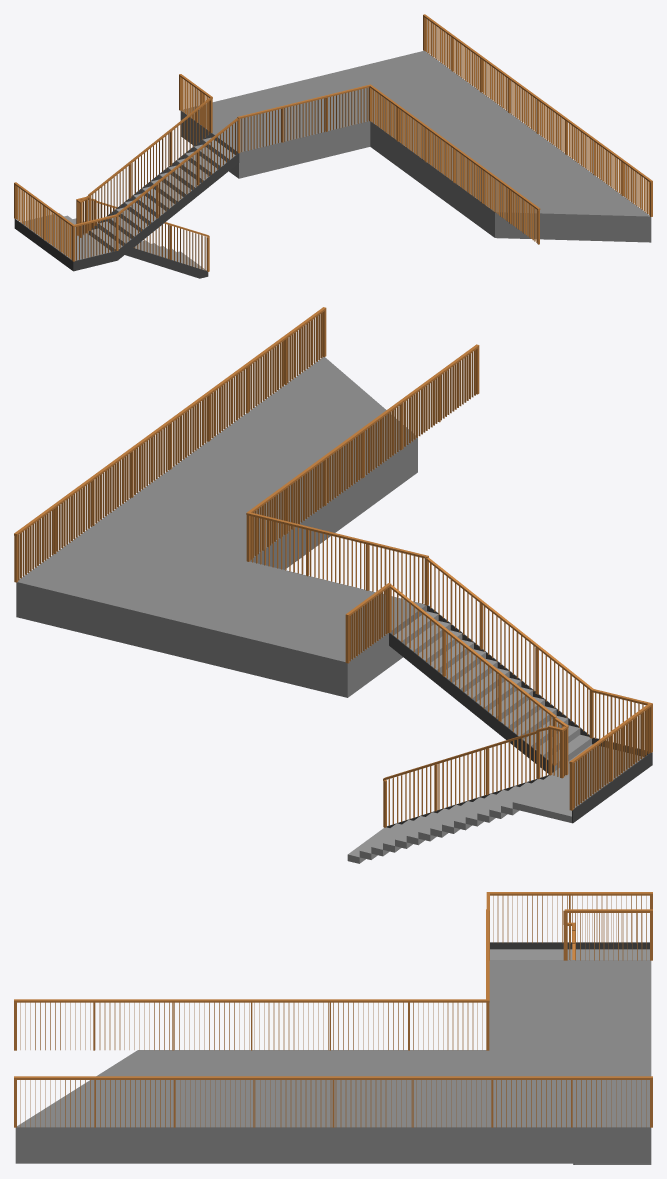
3 views of the same model, one above another, from view 1: azimuth 30°, elevation 25°; view 2: azimuth 150°, elevation 25°; view 3: azimuth 270°, elevation 25° (orthographic). The views are drawn at different scales.
Parts seen in each view (by area): view 1: Group1, Group7, Group8, Group3, Group19, Group9, Group17, Group14, Group18, Group16, Group2, Group6 (+2 smaller); view 2: Group1, Group7, Group8, Group3, Group14, Group9, Group19, Group4, Group17, Group16, Group18, Group2 (+2 smaller); view 3: Group1, Group7, Group8, Group18, Group2, Group6, Group19, Group9.
Boxes of the visible parts, bbox=[...] form: Group1: bbox=[180, 51, 651, 242]; Group7: bbox=[423, 14, 652, 216]; Group8: bbox=[368, 84, 540, 244]; Group3: bbox=[89, 137, 235, 251]; Group19: bbox=[14, 133, 239, 278]; Group9: bbox=[237, 85, 371, 153]; Group17: bbox=[88, 97, 212, 227]; Group14: bbox=[115, 118, 238, 250]; Group18: bbox=[14, 182, 75, 261]; Group16: bbox=[93, 201, 209, 271]; Group2: bbox=[21, 213, 110, 260]; Group6: bbox=[179, 74, 212, 132]; Group1: bbox=[16, 357, 426, 697]; Group7: bbox=[14, 307, 326, 582]; Group8: bbox=[246, 344, 479, 561]; Group3: bbox=[394, 611, 591, 770]; Group14: bbox=[424, 557, 593, 738]; Group9: bbox=[246, 512, 428, 604]; Group19: bbox=[386, 605, 652, 827]; Group4: bbox=[347, 779, 542, 863]; Group17: bbox=[389, 583, 556, 748]; Group16: bbox=[383, 731, 540, 827]; Group18: bbox=[569, 702, 652, 810]; Group2: bbox=[512, 744, 643, 822]; Group1: bbox=[15, 960, 651, 1163]; Group7: bbox=[14, 1076, 652, 1127]; Group8: bbox=[14, 999, 489, 1050]; Group18: bbox=[488, 892, 652, 943]; Group2: bbox=[490, 949, 649, 959]; Group6: bbox=[564, 909, 652, 960]; Group19: bbox=[490, 942, 649, 1164]; Group9: bbox=[486, 909, 489, 1048].
Size of the model in its own units: 13259 by 5600 by 12726.
